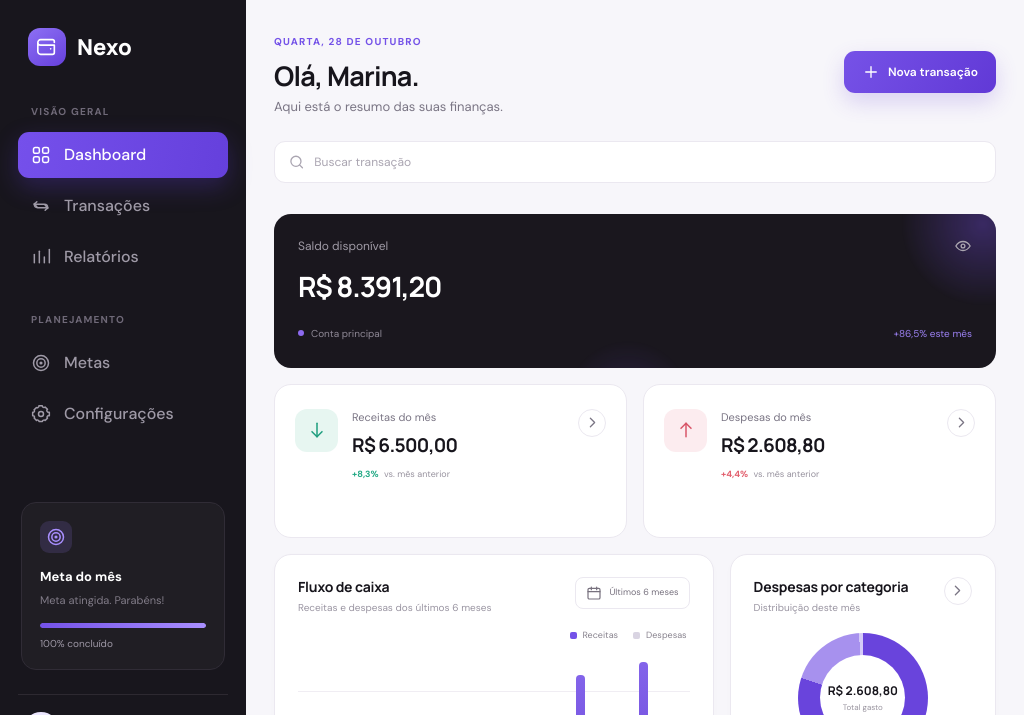
Test: Layout e navegação › navega pelo menu lateral e marca a página atual
This screenshot has width=1024, height=715.
Expected: the link "Dashboard" is shown, [18, 132, 228, 178]
Expected: the link "Relatórios" is shown, [31, 246, 139, 267]
Click the link "Transações".
click(91, 206)  # box [31, 195, 150, 216]
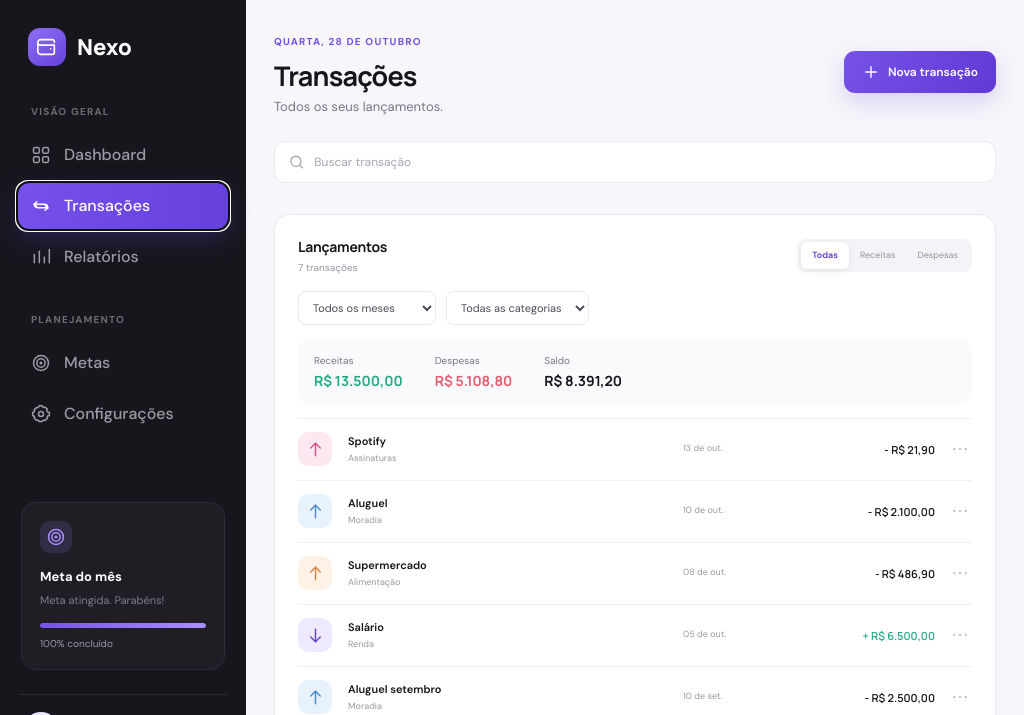
Result: the heading "Transações" is shown at [274, 57, 417, 94]
Click the link "Relatórios".
click(85, 256)  # box [31, 246, 139, 267]
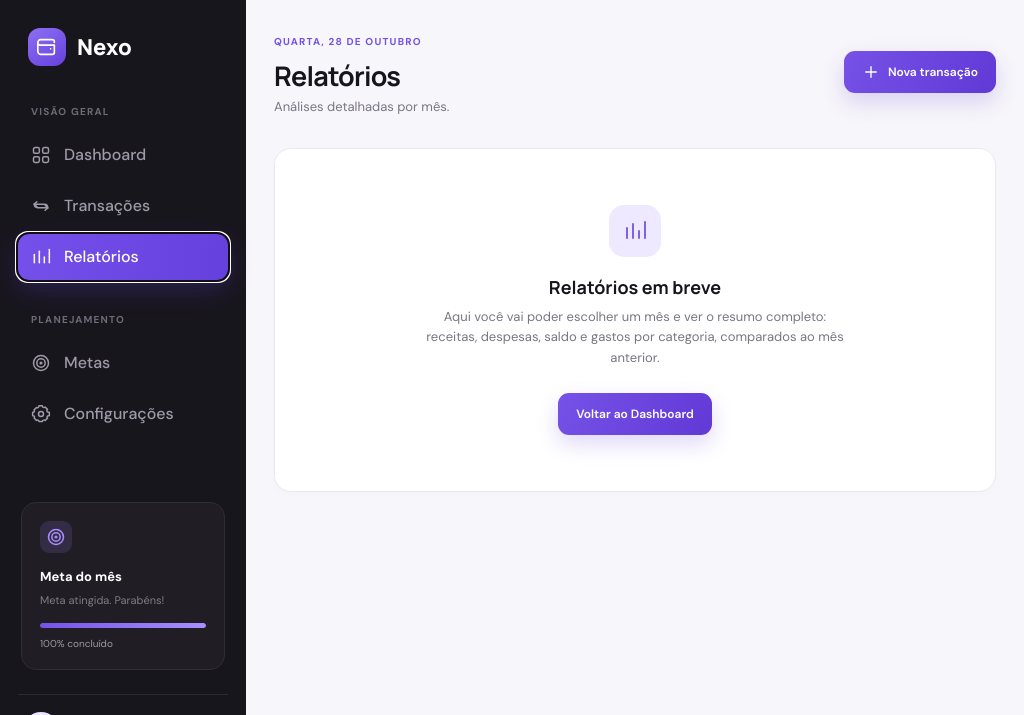
Result: the heading "Relatórios em breve" is shown at [549, 274, 721, 298]
